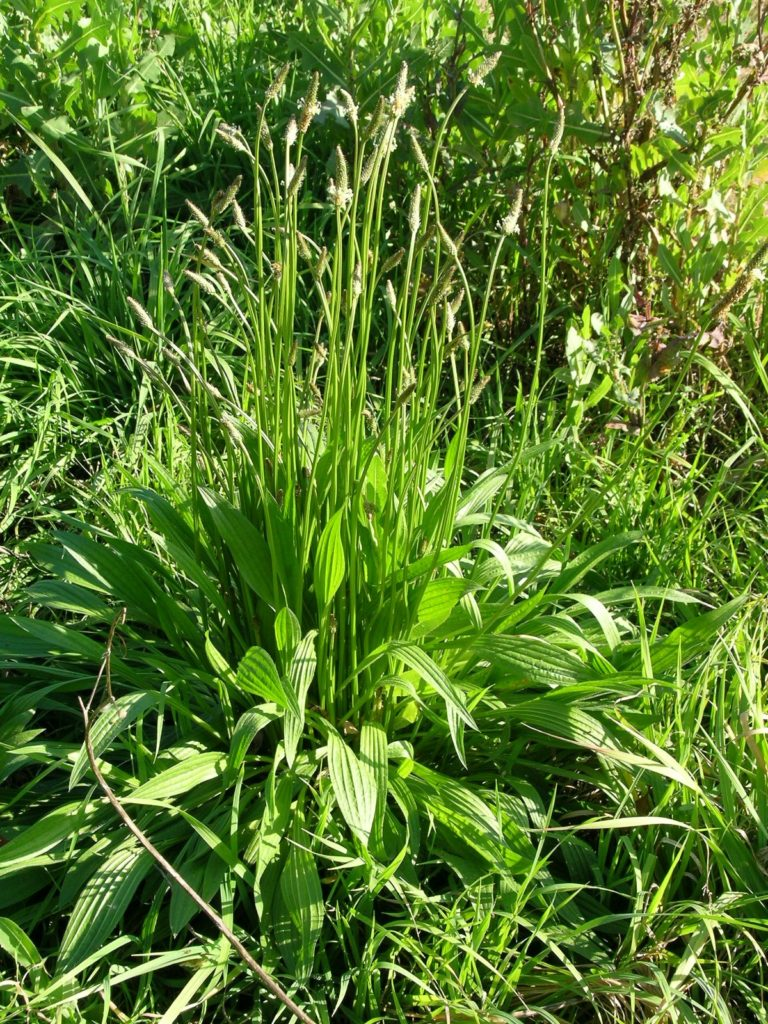buckhorn plantain: (49, 58, 588, 849)
